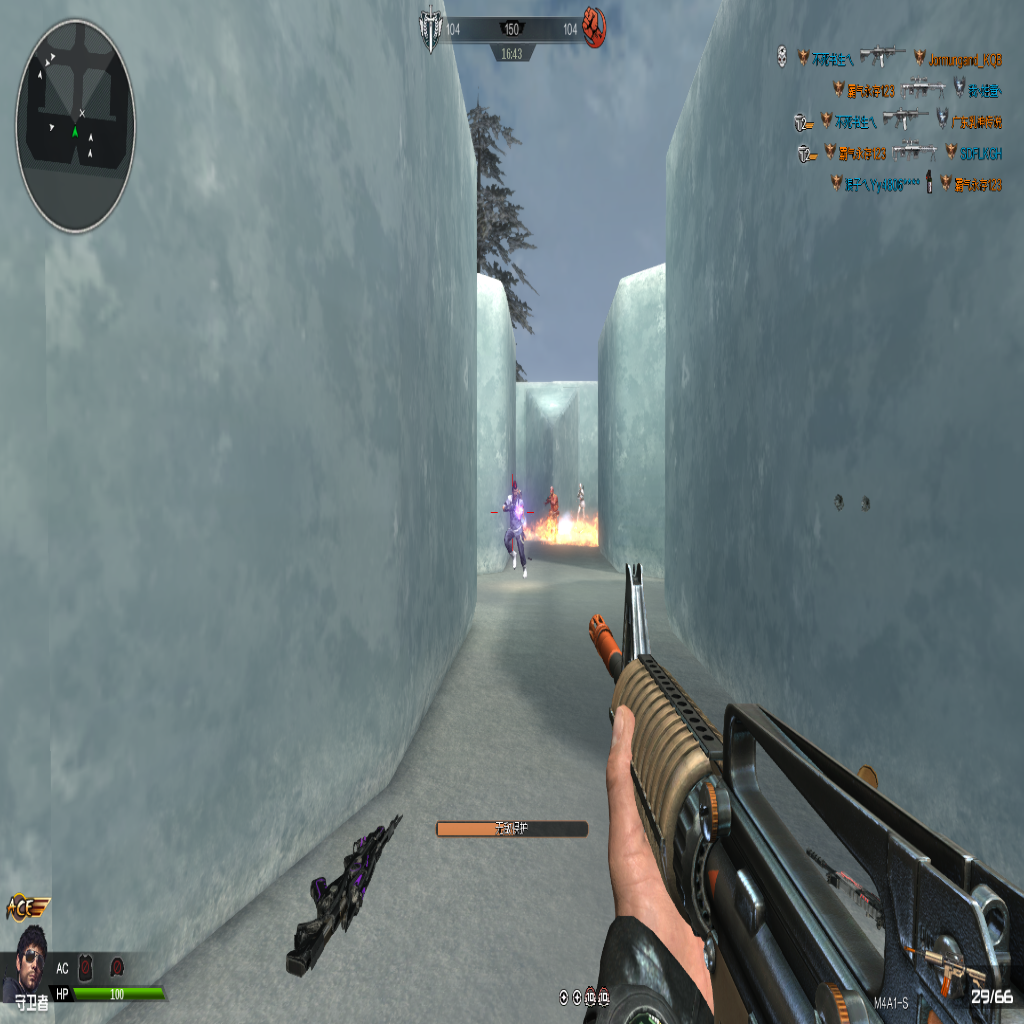tt: (501, 478, 529, 574)
